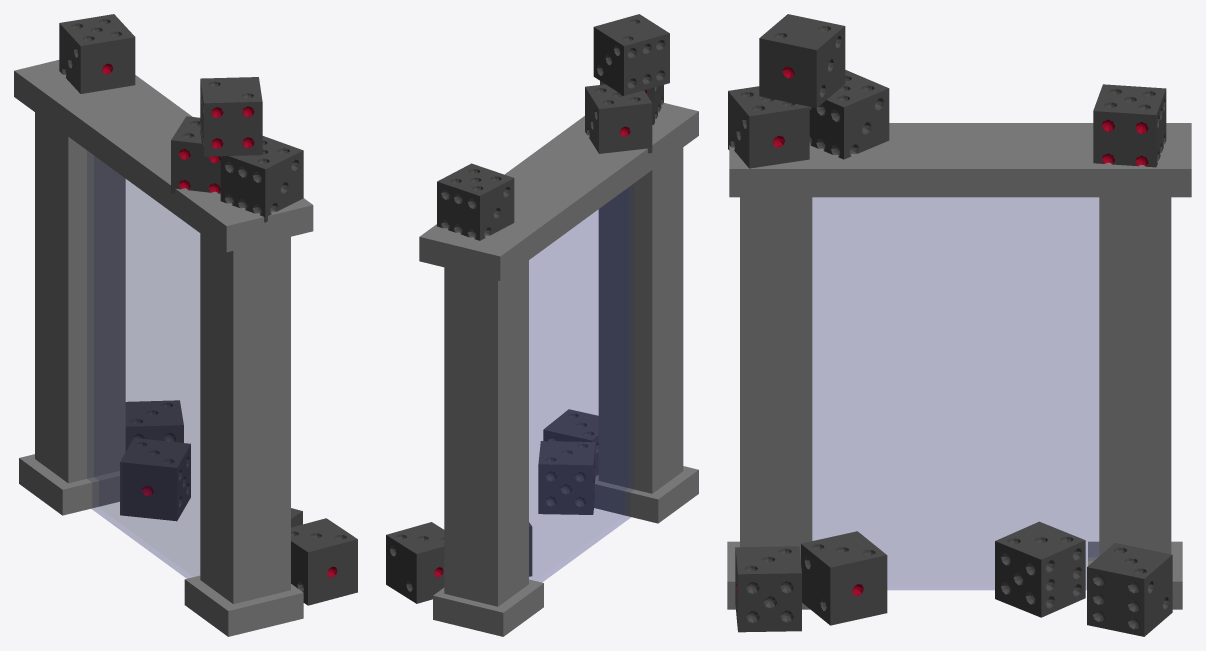
Rendered from Endpoint.fbx.
3 views of the same model, side by side, from view 1: azimuth 30°, elevation 25°; view 2: azimuth 150°, elevation 25°; view 3: azimuth 270°, elevation 25° (orthographic). The views are drawn at different scales.
Parts seen in each view (by area): view 1: endpoint; view 2: endpoint; view 3: endpoint.
Boxes of the visible parts, x1=… form: endpoint: x1=14, y1=14, x2=357, y2=636; endpoint: x1=386, y1=14, x2=698, y2=636; endpoint: x1=727, y1=14, x2=1191, y2=636.
Size of the model in its own units: 6.75 by 22.56 by 16.98.
